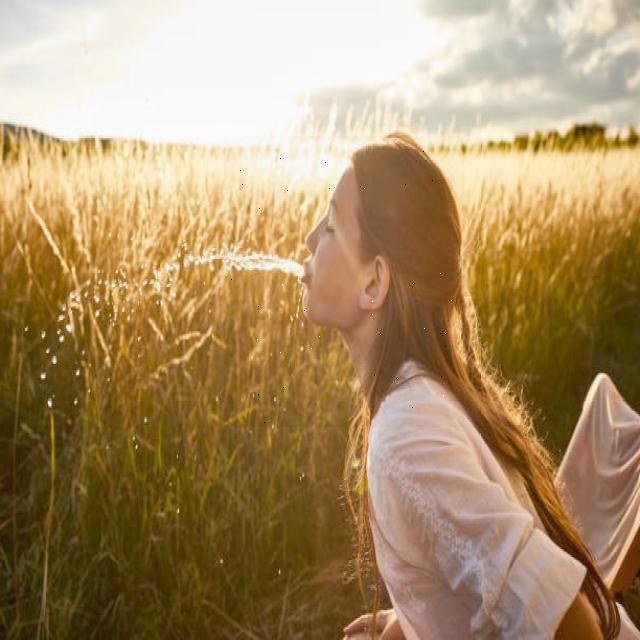Spitting: (224, 136, 464, 427)
